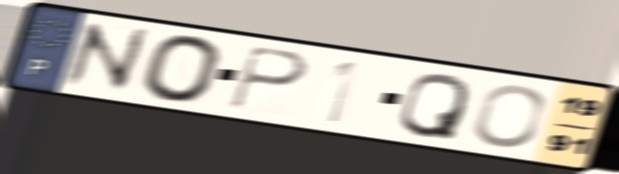1: (326, 59, 363, 125)
N: (59, 19, 152, 94)
O: (138, 32, 228, 105), (470, 83, 549, 149)
P: (225, 42, 312, 112)
Q: (394, 71, 474, 143)
